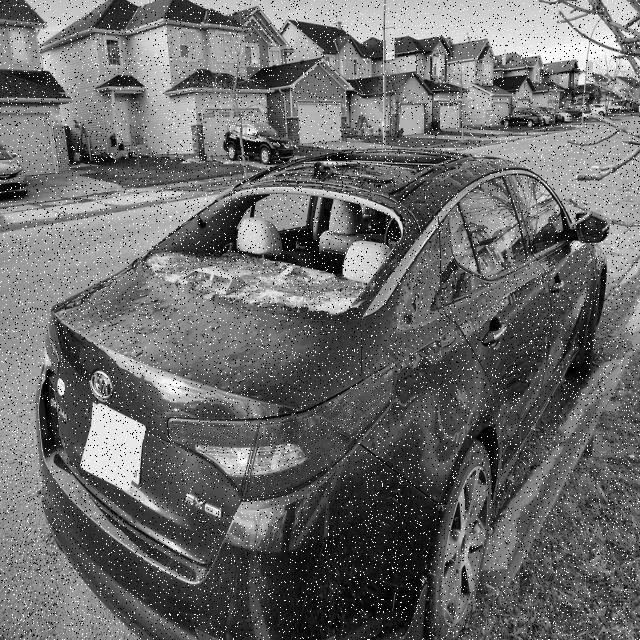Rear-windscreen-Damage: (145, 173, 429, 308)
